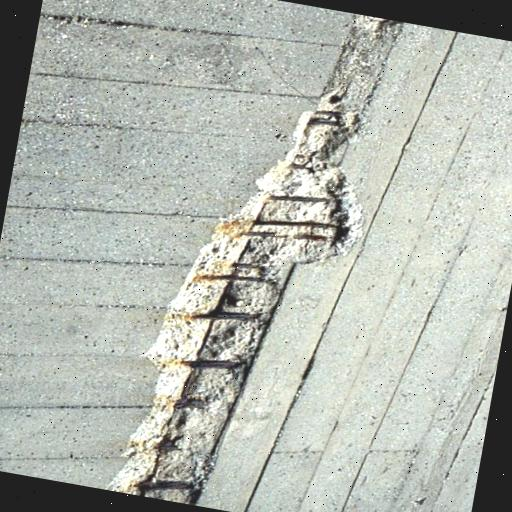spalling: (115, 110, 361, 506)
